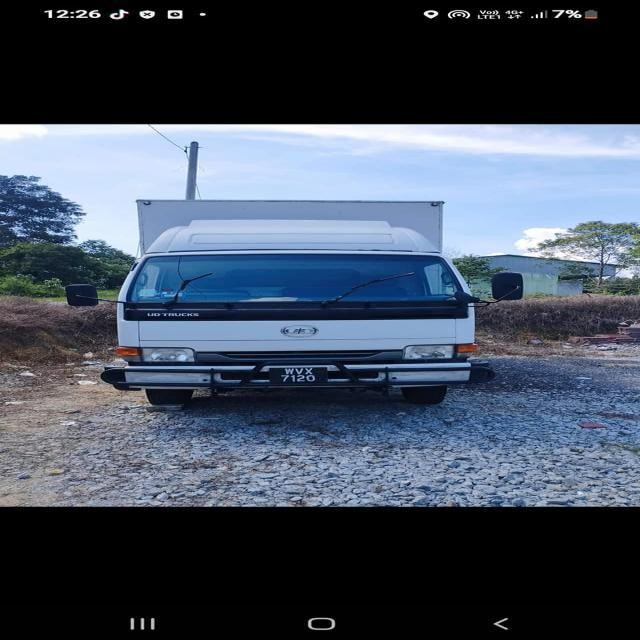truck: (112, 191, 482, 408)
